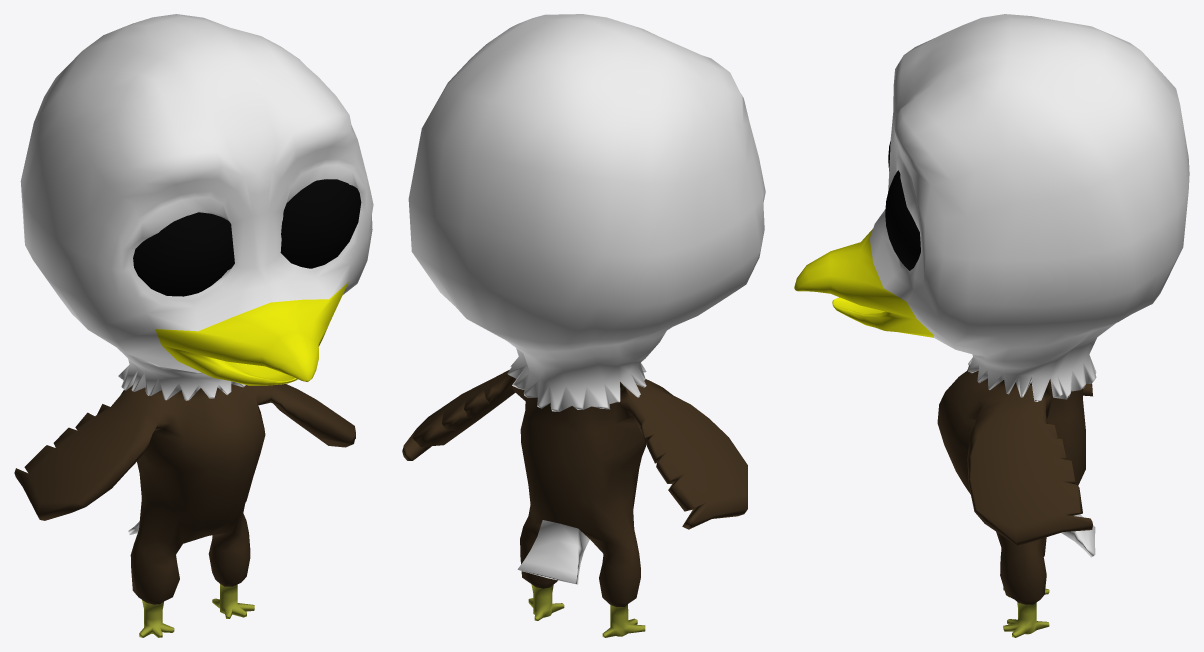
3 views of the same model, side by side, from view 1: azimuth 30°, elevation 25°; view 2: azimuth 150°, elevation 25°; view 3: azimuth 270°, elevation 25° (orthographic). The views are drawn at different scales.
Visible parts, largest first — view 1: polySurface2, BaseRig:EyeMesh_R, BaseRig:EyeMesh_L; view 2: polySurface2; view 3: polySurface2, BaseRig:EyeMesh_L.
Part boxes in pixels (x1,y1,x2,y2): polySurface2: [14, 14, 373, 637]; BaseRig:EyeMesh_R: [133, 212, 234, 296]; BaseRig:EyeMesh_L: [280, 179, 361, 268]; polySurface2: [402, 14, 765, 637]; polySurface2: [794, 14, 1189, 637]; BaseRig:EyeMesh_L: [885, 170, 920, 270].
Size of the model in its own units: 4.43 by 7.84 by 4.79.
